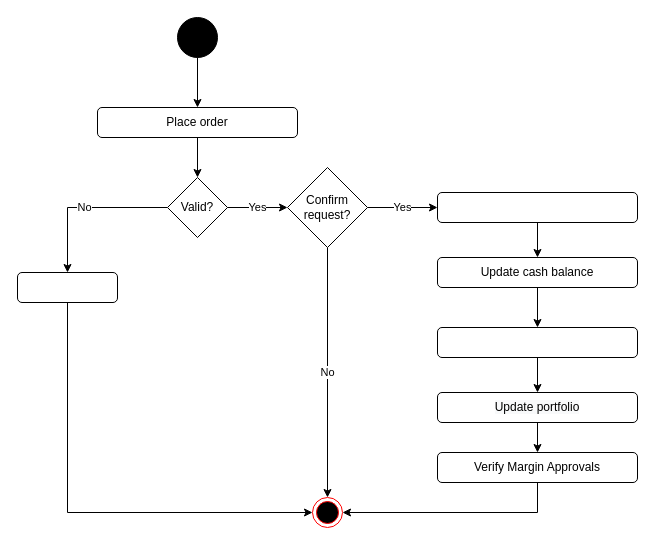
Some shapes in this 655 by 545 pixel diagram are drawn without their labels. Here are the shapes that lost their labels. From the top down, the box of each, then its label:
(436, 192, 638, 222): Submit request
(16, 272, 118, 302): Error
(436, 326, 638, 358): Update buying power
